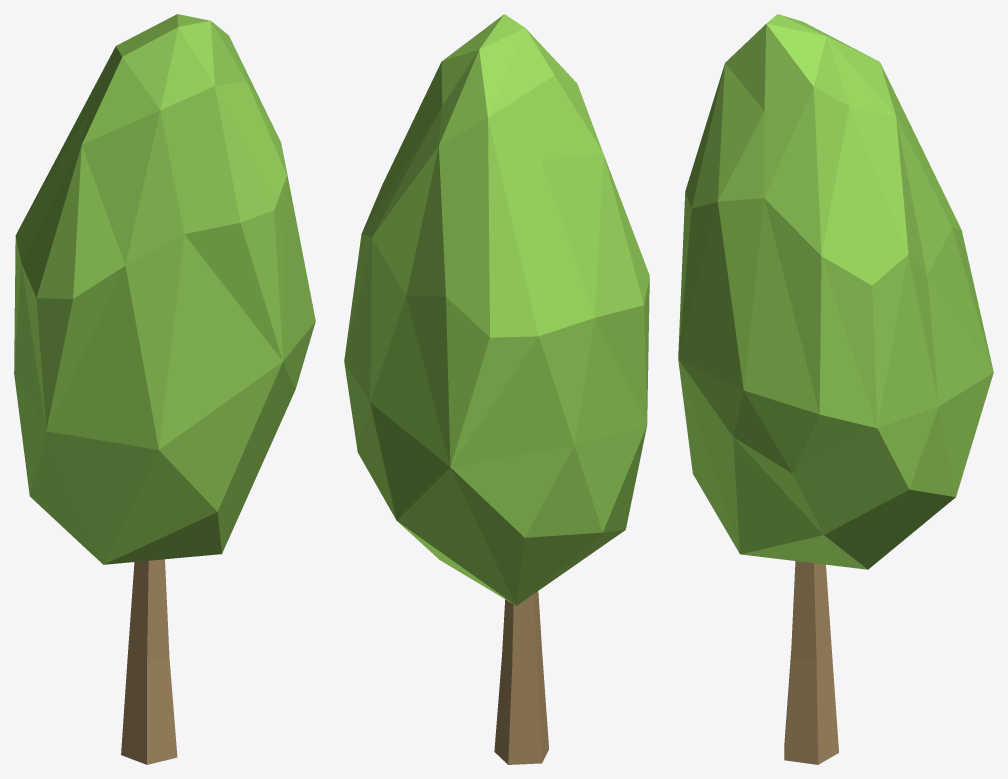
File: Random_Tree_m_08.fbx
3 renders of one model, left to right at view 1: azimuth 30°, elevation 25°; view 2: azimuth 150°, elevation 25°; view 3: azimuth 270°, elevation 25°, orthographic. The views are drawn at different scales.
Visible parts, largest first — view 1: Random_Tree_m_08; view 2: Random_Tree_m_08; view 3: Random_Tree_m_08.
Boxes of the visible parts, left/top/right/bottom form: Random_Tree_m_08: left=14, top=14, right=315, bottom=764; Random_Tree_m_08: left=344, top=14, right=649, bottom=764; Random_Tree_m_08: left=678, top=14, right=993, bottom=764.
Size of the model in its own units: 388 by 983 by 376.
